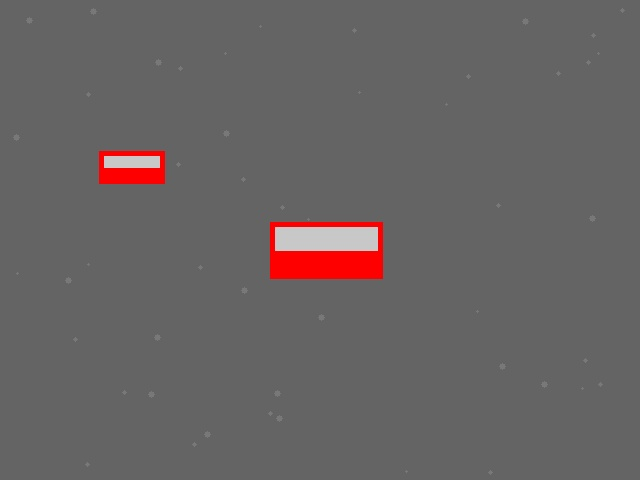car: (270, 222, 382, 278), (99, 151, 164, 183)
